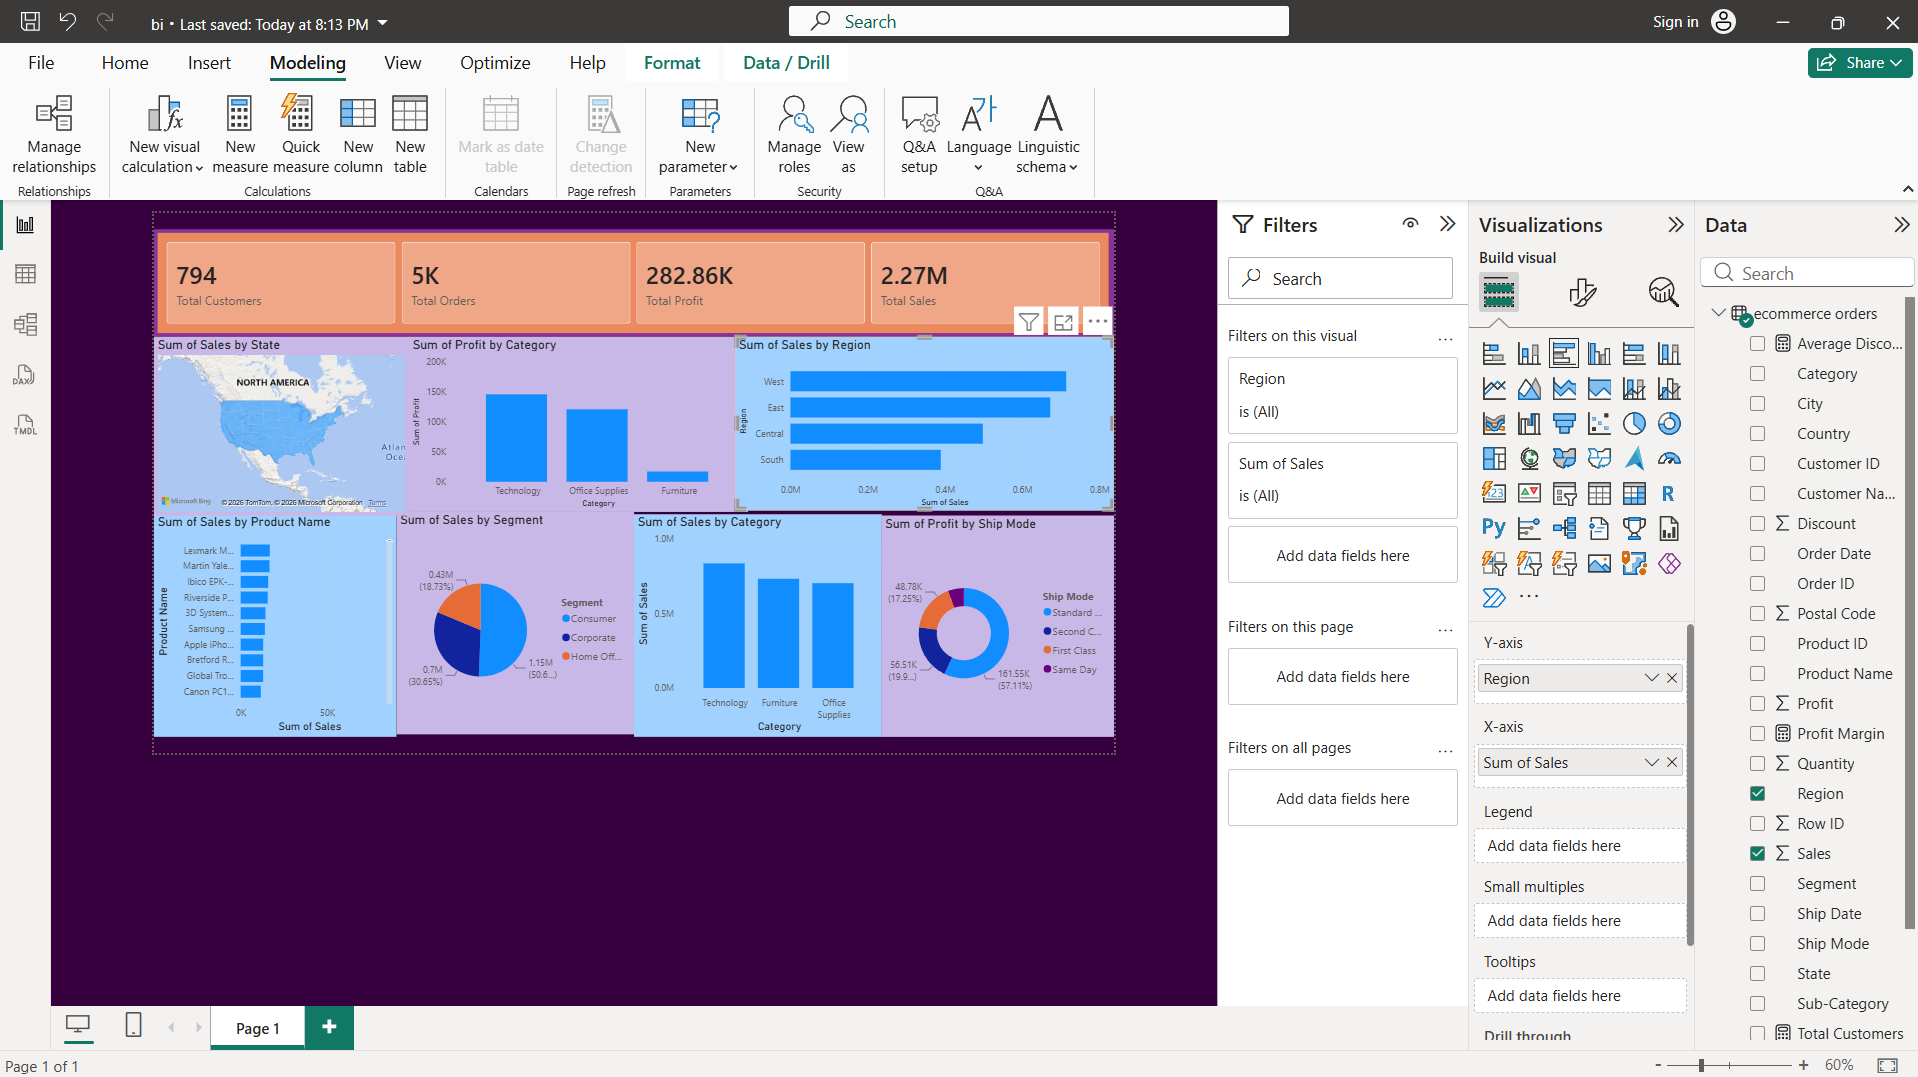

The page's visual inventory and layout, read from the dashboard file:
{"tool":"powerbi","page":{"name":"Page 1","canvas":[1280,720],"ordinal":0},"visuals":[{"type":"cardVisual","fields":{"Data":["ecommerce orders.Total Customers","ecommerce orders.Total Orders","ecommerce orders.Total Profit","ecommerce orders.Total Sales"]},"box":[0,0,1280.3,144.1],"z":0},{"type":"clusteredColumnChart","fields":{"Y":["Sum(ecommerce orders.Sales)"],"Category":["ecommerce orders.Category"]},"box":[640.8,421.3,340.3,242.9],"z":1000},{"type":"clusteredColumnChart","fields":{"Y":["Sum(ecommerce orders.Profit)"],"Category":["ecommerce orders.Category"]},"box":[377.1,170,410,228.6],"z":2000},{"type":"clusteredBarChart","fields":{"Category":["ecommerce orders.Region"],"Y":["Sum(ecommerce orders.Sales)"]},"box":[787.1,170,455.7,238.6],"z":3000},{"type":"clusteredBarChart","fields":{"Y":["Sum(ecommerce orders.Sales)"],"Category":["ecommerce orders.Product Name"]},"box":[0,408.9,308.7,311.5],"z":4000},{"type":"pieChart","fields":{"Category":["ecommerce orders.Segment"],"Y":["Sum(ecommerce orders.Sales)"]},"box":[326.6,421.3,299.1,284],"z":5000},{"type":"donutChart","fields":{"Category":["ecommerce orders.Ship Mode"],"Y":["Sum(ecommerce orders.Profit)"]},"box":[971.5,432.2,271.7,245.6],"z":6000},{"type":"filledMap","fields":{"Category":["ecommerce orders.State"]},"box":[0,144.1,377.4,233.3],"z":6001}]}

Visuals, with their boxes on the page's 1280x720 design canvas (x1, y1, x2, y2). These are canvas units, not pixel positions in the 1918x1077 screenshot, which may show the page scaled, cropped or inside an application window:
cardVisual - ecommerce orders.Total Customers x ecommerce orders.Total Orders: 0/0/1280/144
clusteredColumnChart - Sum(ecommerce orders.Sales) x ecommerce orders.Category: 641/421/981/664
clusteredColumnChart - Sum(ecommerce orders.Profit) x ecommerce orders.Category: 377/170/787/399
clusteredBarChart - ecommerce orders.Region x Sum(ecommerce orders.Sales): 787/170/1243/409
clusteredBarChart - Sum(ecommerce orders.Sales) x ecommerce orders.Product Name: 0/409/309/720
pieChart - ecommerce orders.Segment x Sum(ecommerce orders.Sales): 327/421/626/705
donutChart - ecommerce orders.Ship Mode x Sum(ecommerce orders.Profit): 972/432/1243/678
filledMap - ecommerce orders.State: 0/144/377/377
